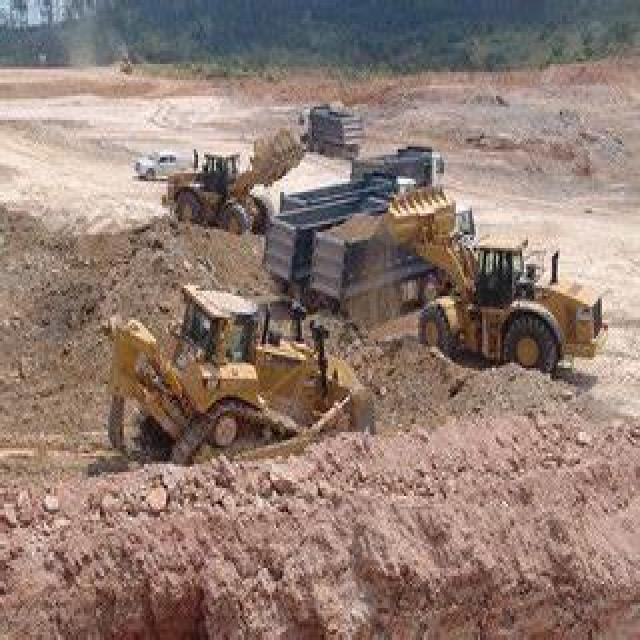Bulldozer: (74, 259, 390, 485)
Loader: (390, 183, 604, 372), (165, 125, 301, 232)
